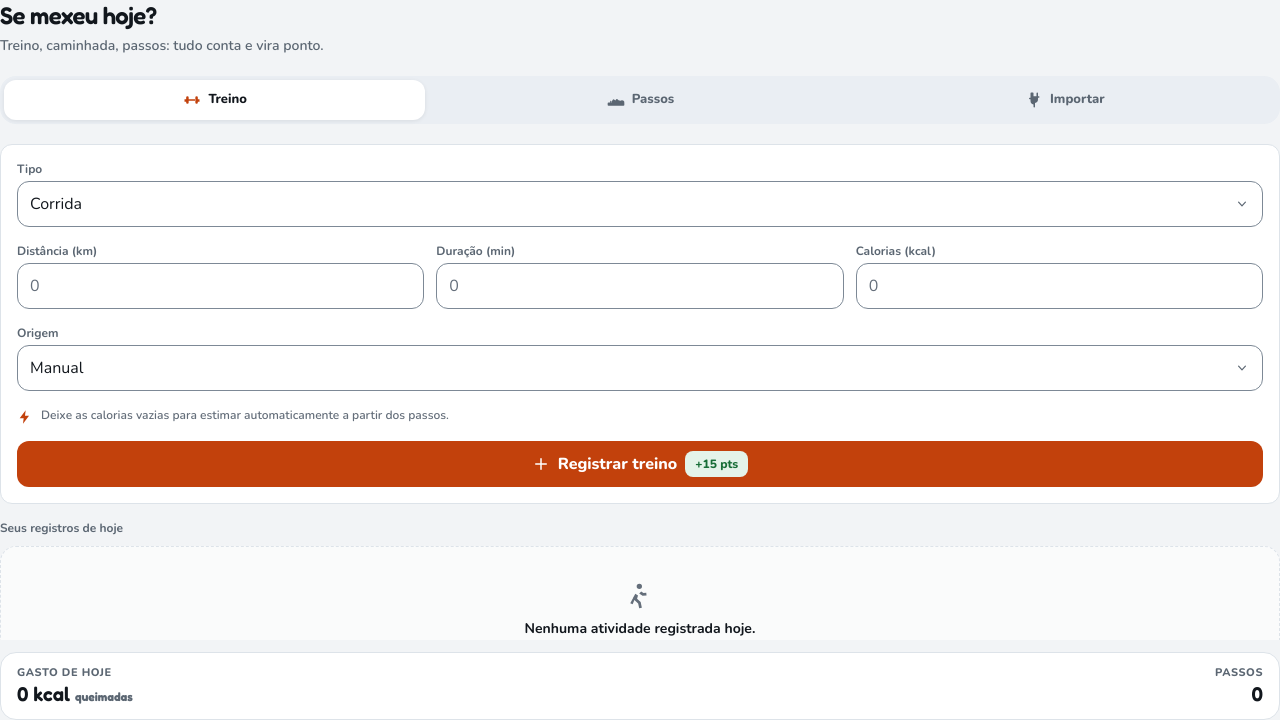
Test: ActivityPage steps form › refuses an empty count and says so
Click the button "Passos": click(640, 100) [429,80,851,120]
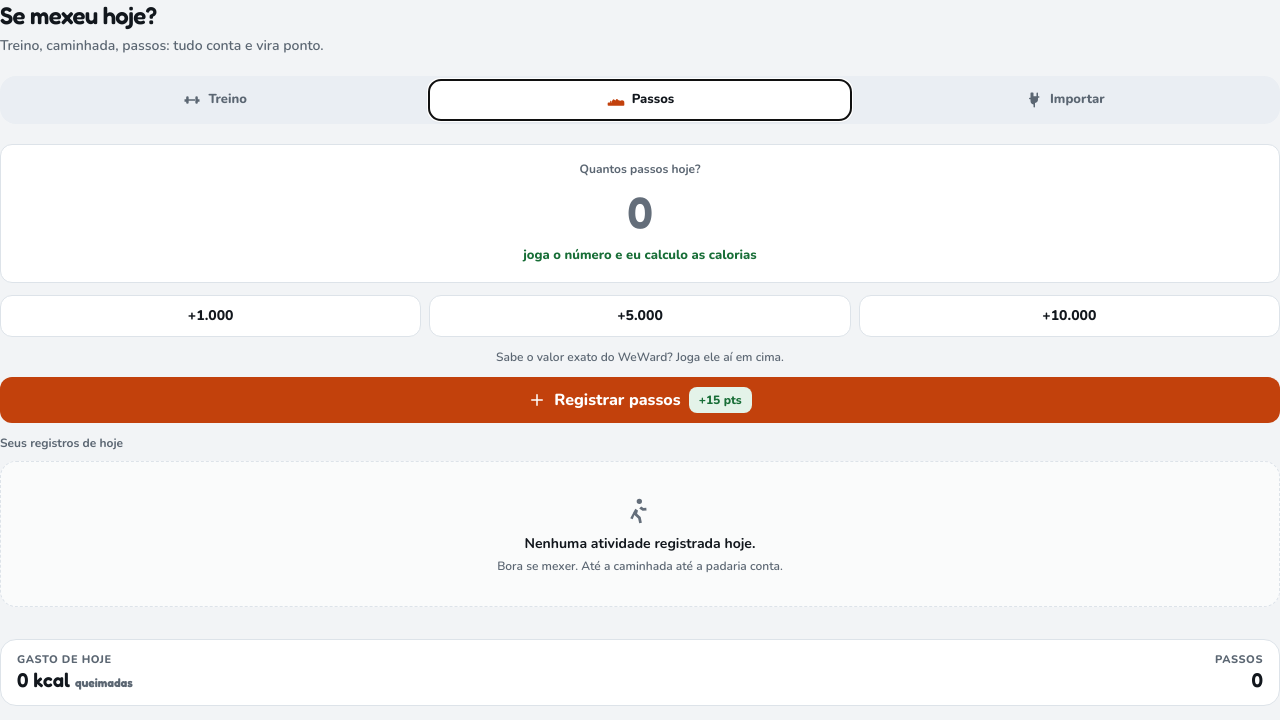
Click the button "Registrar passos +15 pts": click(640, 400) [0,376,1279,422]
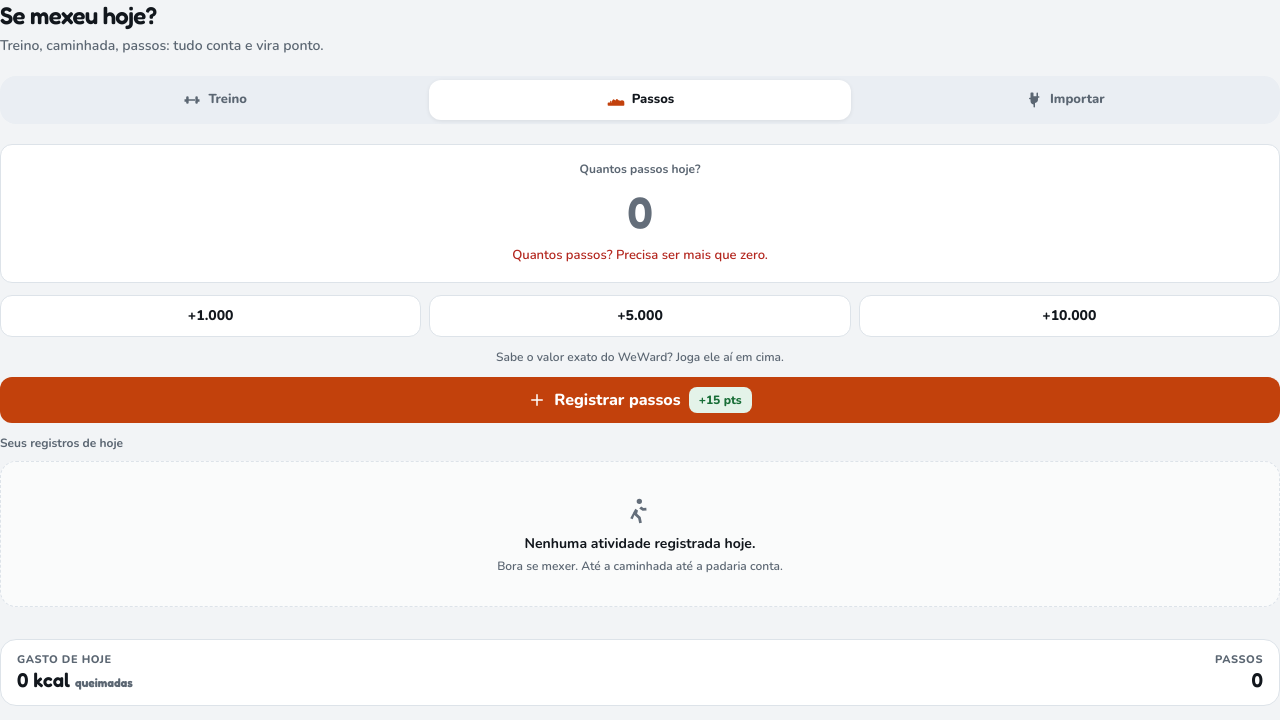
Result: the message reads "Quantos passos? Precisa ser mais que zero." at [512,246,768,264]
